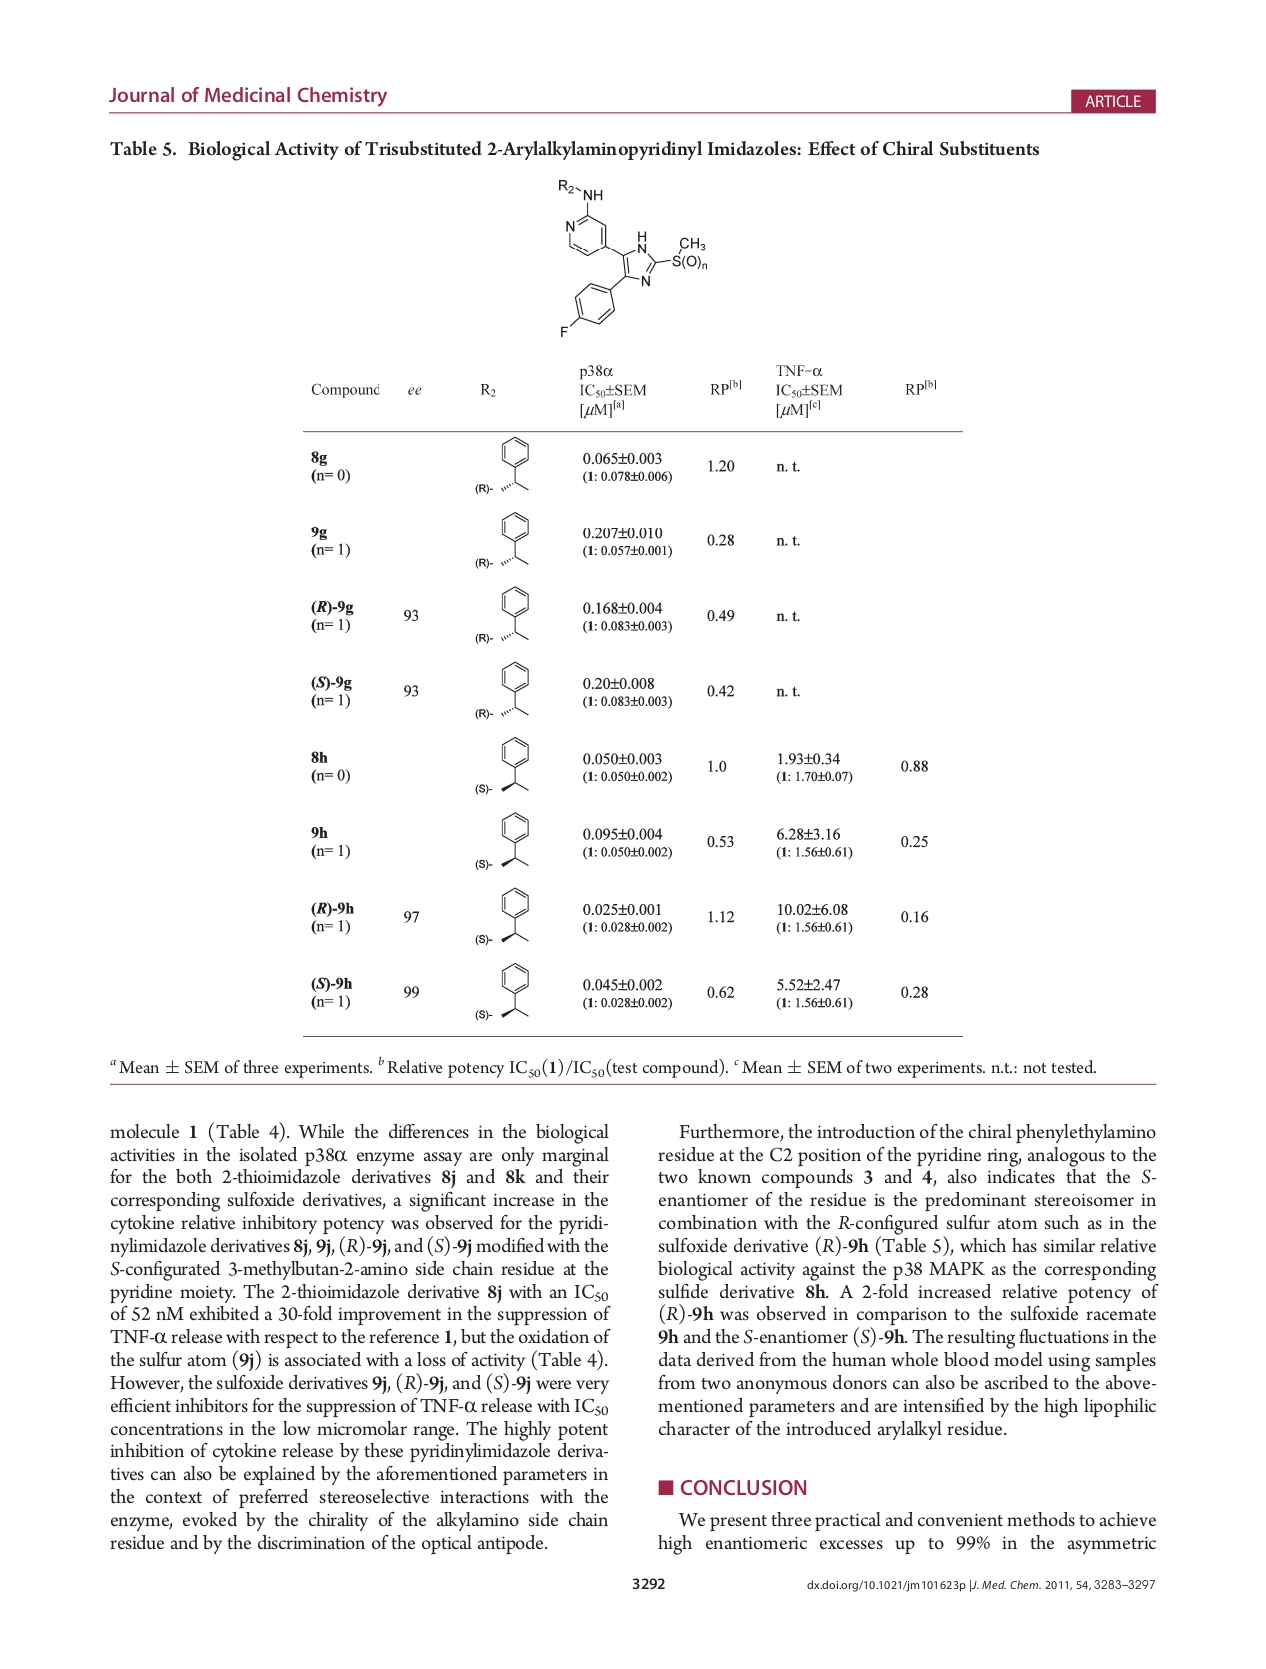exist_molecular: (551, 174, 710, 336), (495, 581, 532, 644), (497, 883, 535, 946), (497, 509, 536, 569), (495, 958, 532, 1019), (496, 434, 533, 493), (496, 658, 533, 718), (497, 734, 535, 794), (497, 809, 533, 868)
